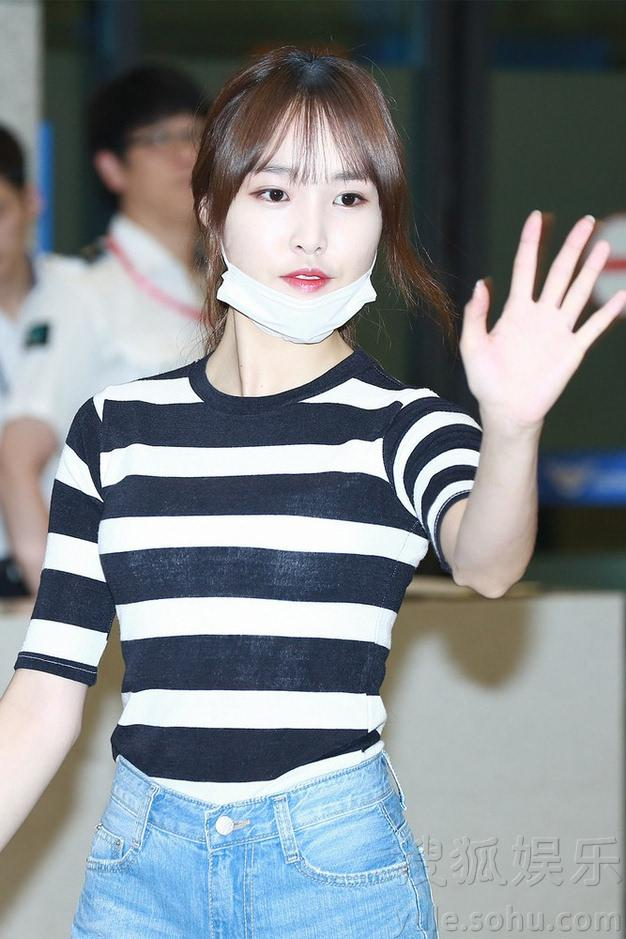NONE: (128, 113, 215, 219)
WRONG: (222, 157, 401, 336)
